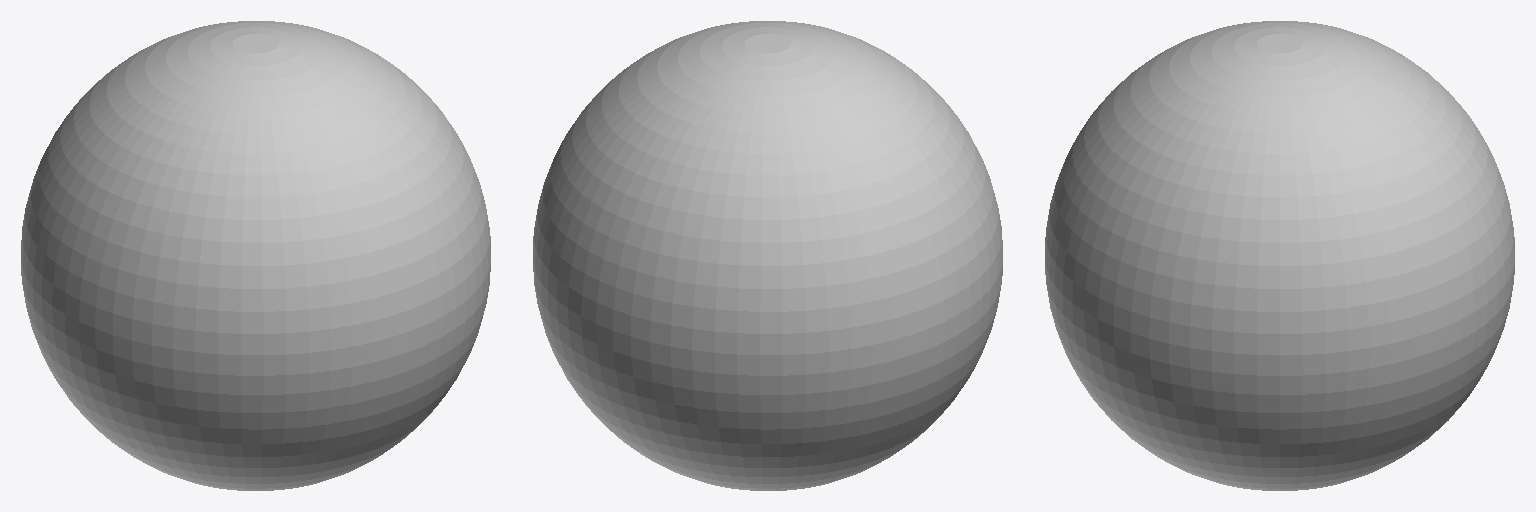
The model's file is ball14.obj.
3 renders of one model, left to right at view 1: azimuth 30°, elevation 25°; view 2: azimuth 150°, elevation 25°; view 3: azimuth 270°, elevation 25°, orthographic.
Parts seen in each view (by area): view 1: planet_Sphere.004; view 2: planet_Sphere.004; view 3: planet_Sphere.004.
Part boxes in pixels (x1,y1,x2,y2): planet_Sphere.004: (21,21,490,490); planet_Sphere.004: (533,21,1002,490); planet_Sphere.004: (1045,21,1514,490).
Bounding box in the file's own units: 0.2214 × 0.2204 × 0.2214.